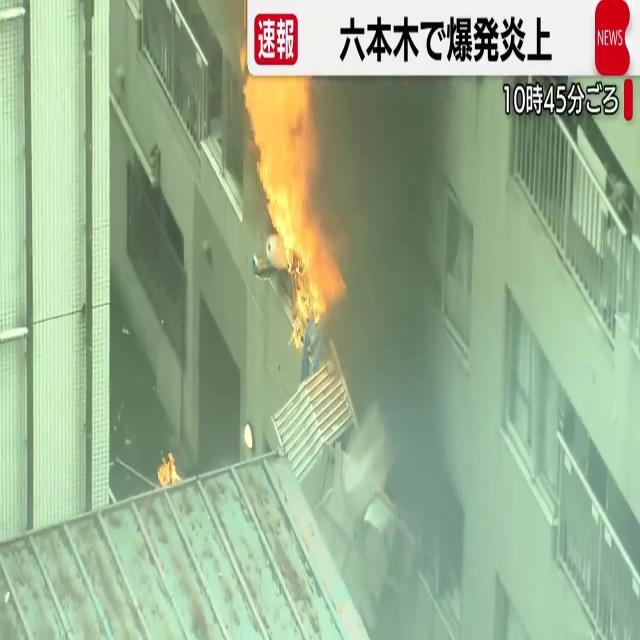Fire: (237, 76, 328, 344)
